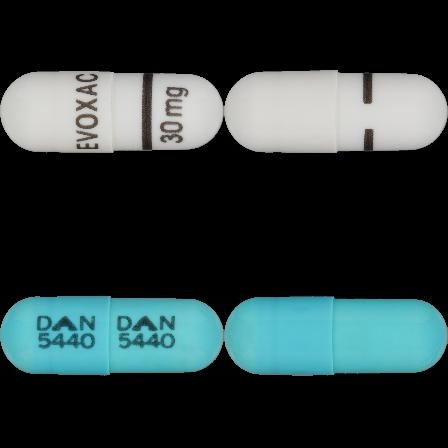60687-117: (0, 0, 224, 224)
